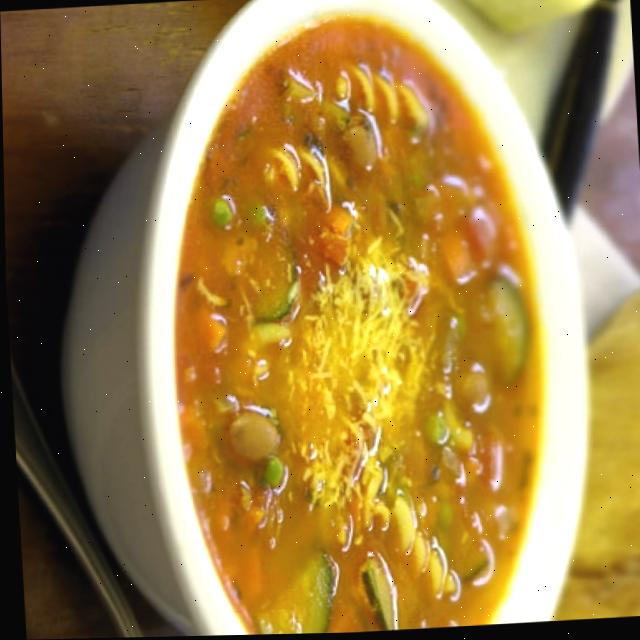汤锅炖物: (83, 0, 587, 639)
